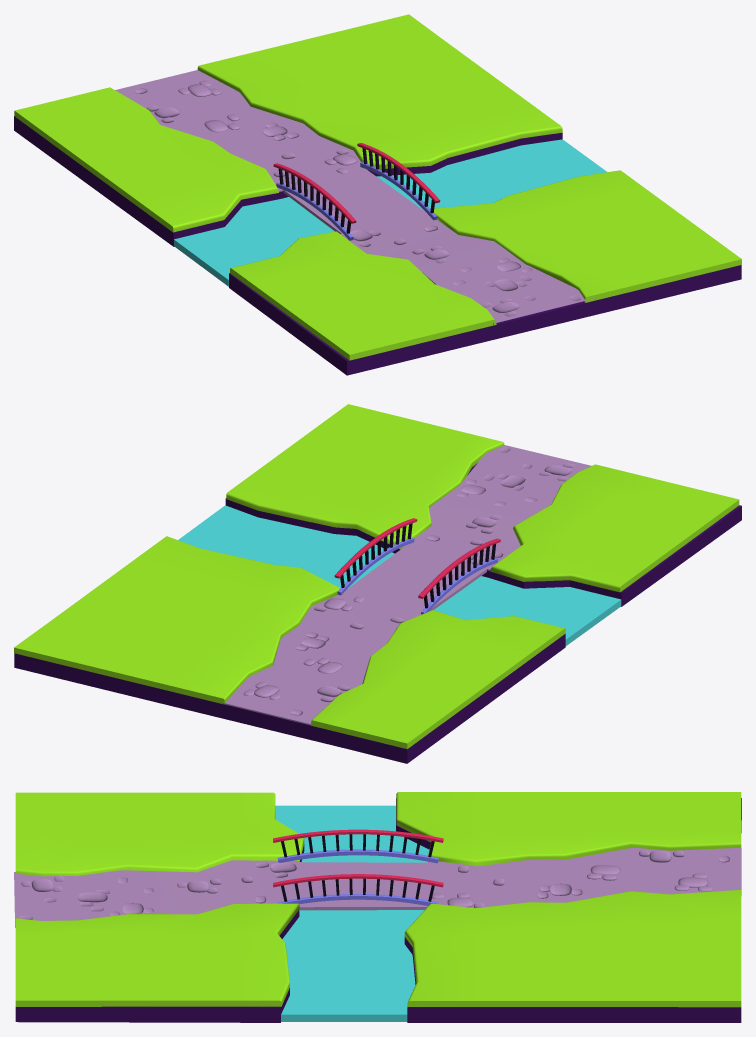
File: Env_mesh (3).fbx
The picture shows the model from 3 angles, top to bottom: view 1: azimuth 30°, elevation 25°; view 2: azimuth 150°, elevation 25°; view 3: azimuth 270°, elevation 25°; orthographic projection. The views are drawn at different scales.
Visible parts, largest first — view 1: Object003; view 2: Object003; view 3: Object003.
Boxes of the visible parts, x1,y1,x2,y2 form: Object003: [14, 14, 741, 375]; Object003: [14, 404, 741, 763]; Object003: [14, 792, 741, 1022].
Size of the model in its own units: 453 by 49.46 by 664.
